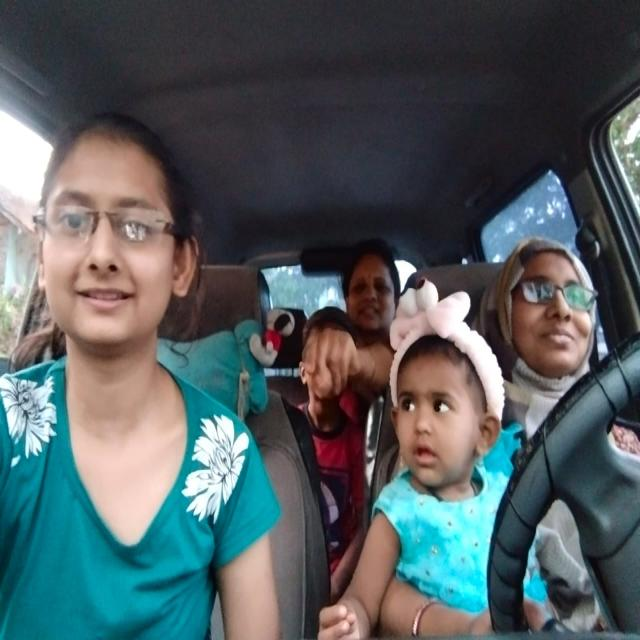child: (389, 334, 501, 489)
person: (30, 114, 204, 348), (510, 254, 597, 378), (342, 244, 400, 330)
